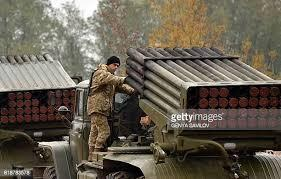MIL_SAM_TEL: (50, 46, 281, 179), (0, 54, 81, 179)
